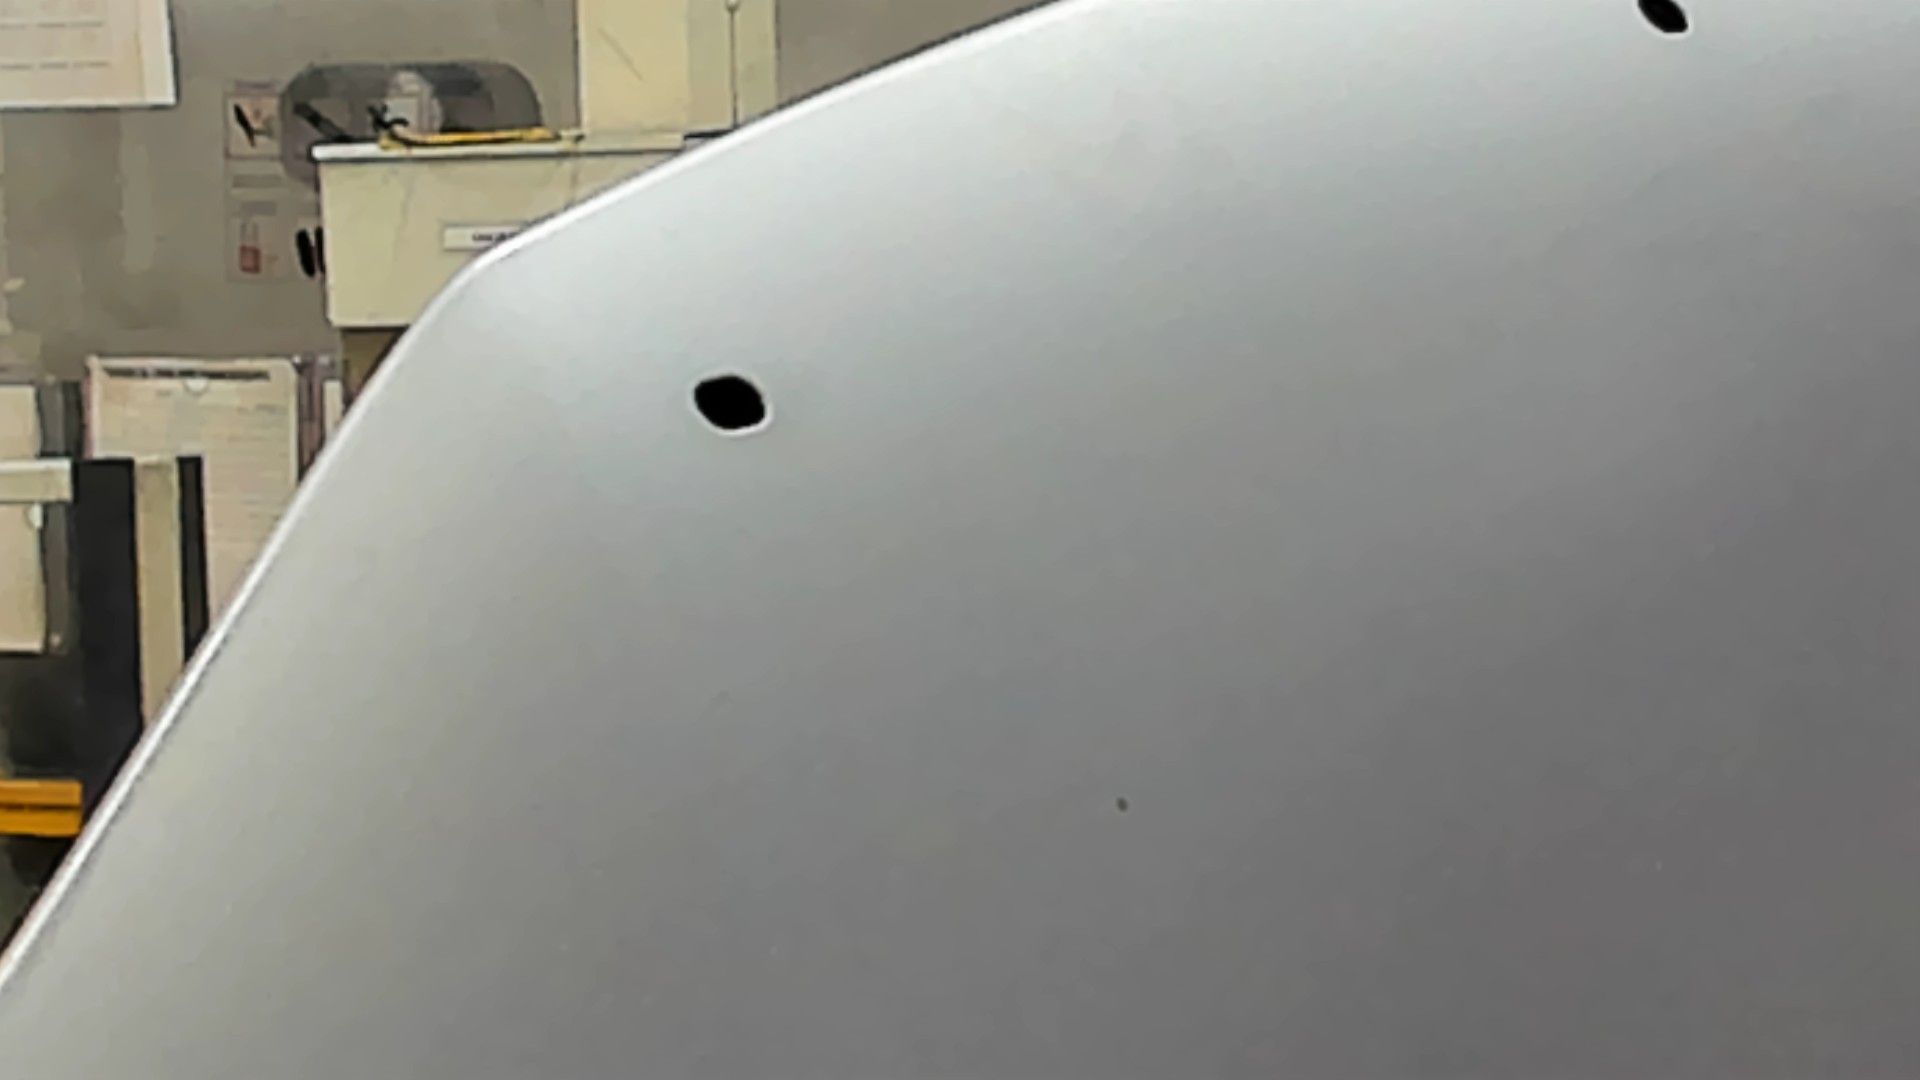Agujero: (688, 371, 774, 435), (1629, 1, 1697, 41)
